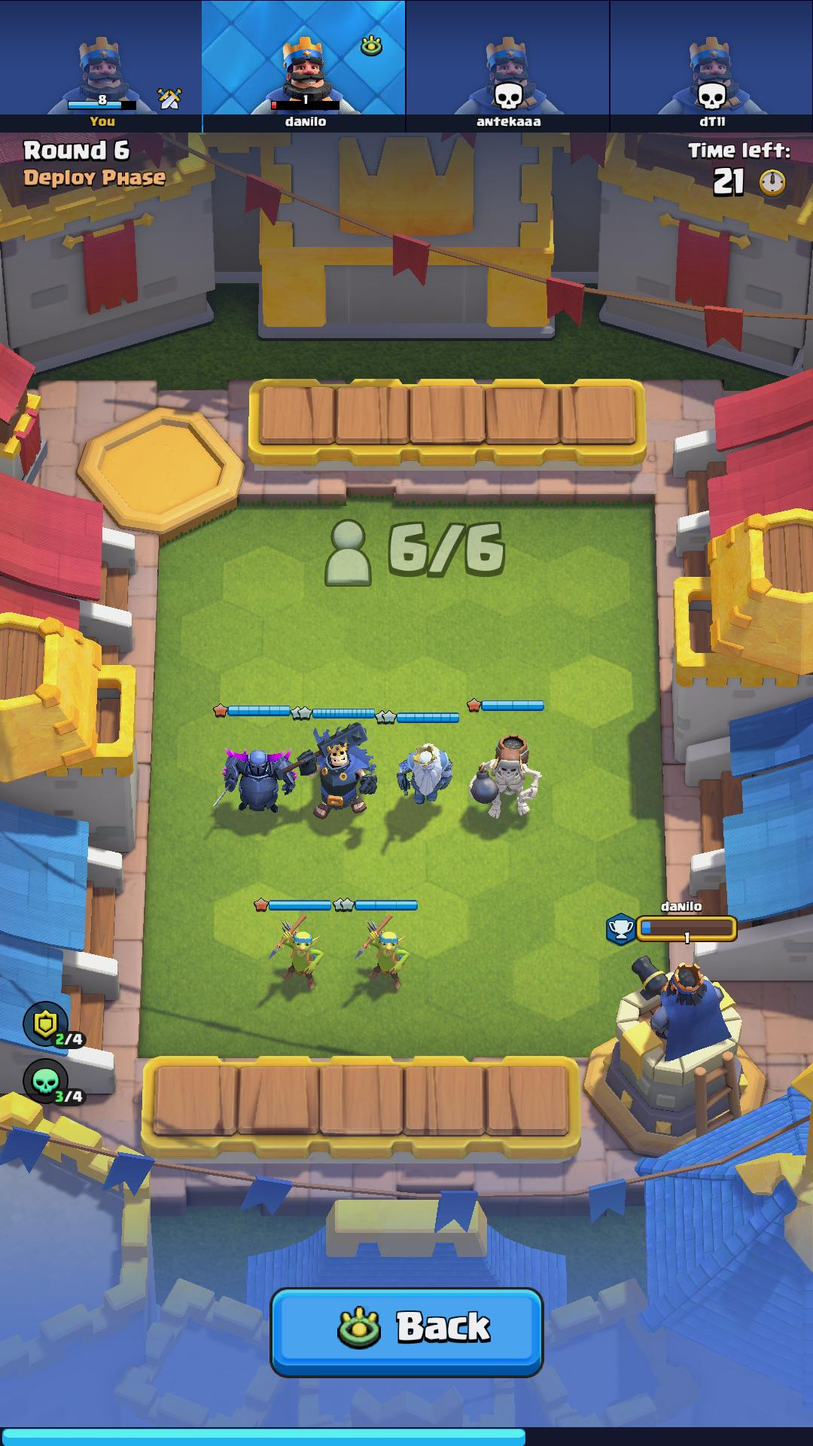ghost: (389, 739, 454, 807)
giant: (467, 728, 549, 820)
king: (289, 720, 383, 824)
pekka: (209, 739, 301, 827)
spear: (347, 912, 423, 993), (258, 915, 329, 994)
